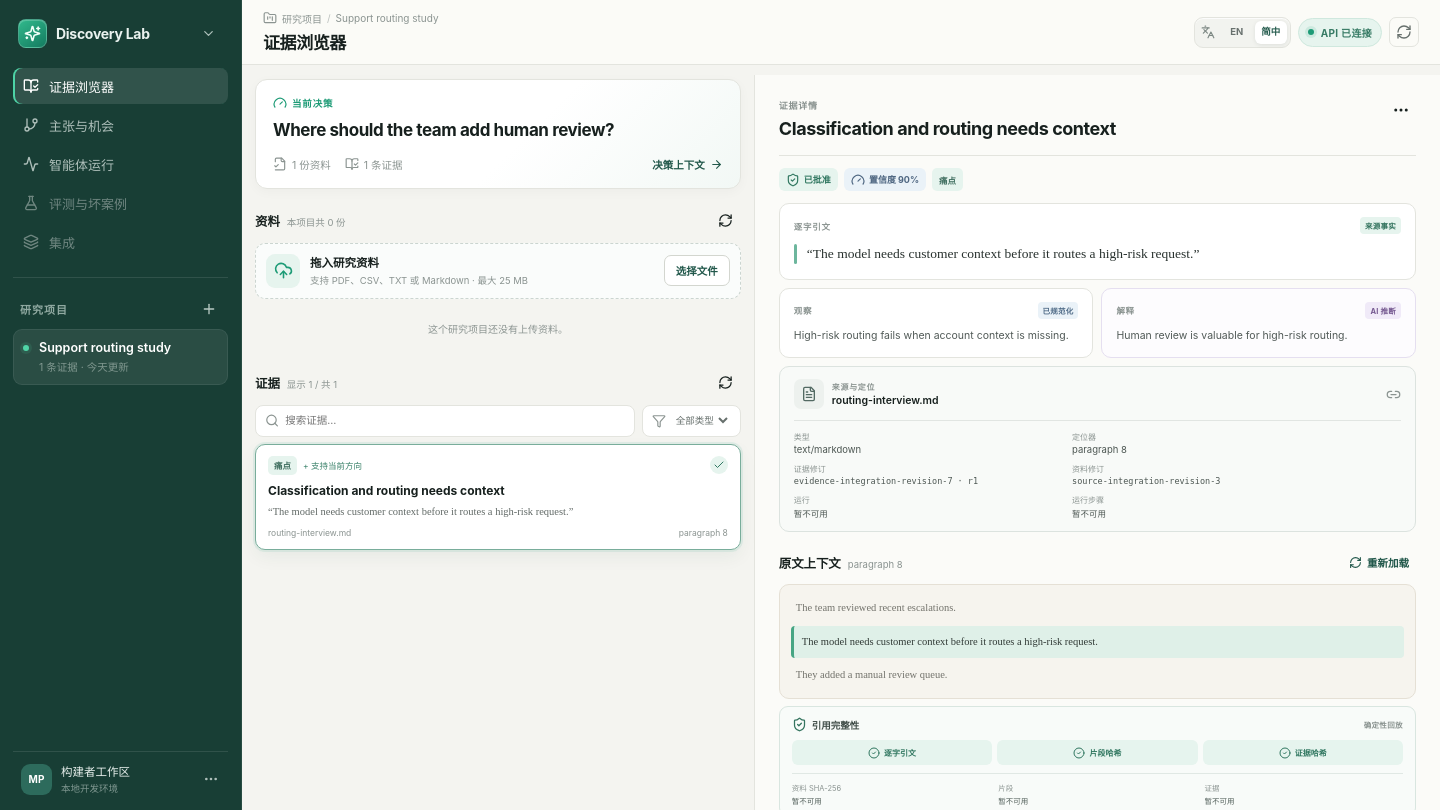
Test case: DiscoveryWorkbench navigation and locale integration › initializes from the saved locale, switches language, and persists the new choice
This screenshot has width=1440, height=810.
Check: the button "主张与机会" is shown, box [13,107,228,143]
Click the button "EN". click: (1237, 32)
box: [1221,20,1253,44]
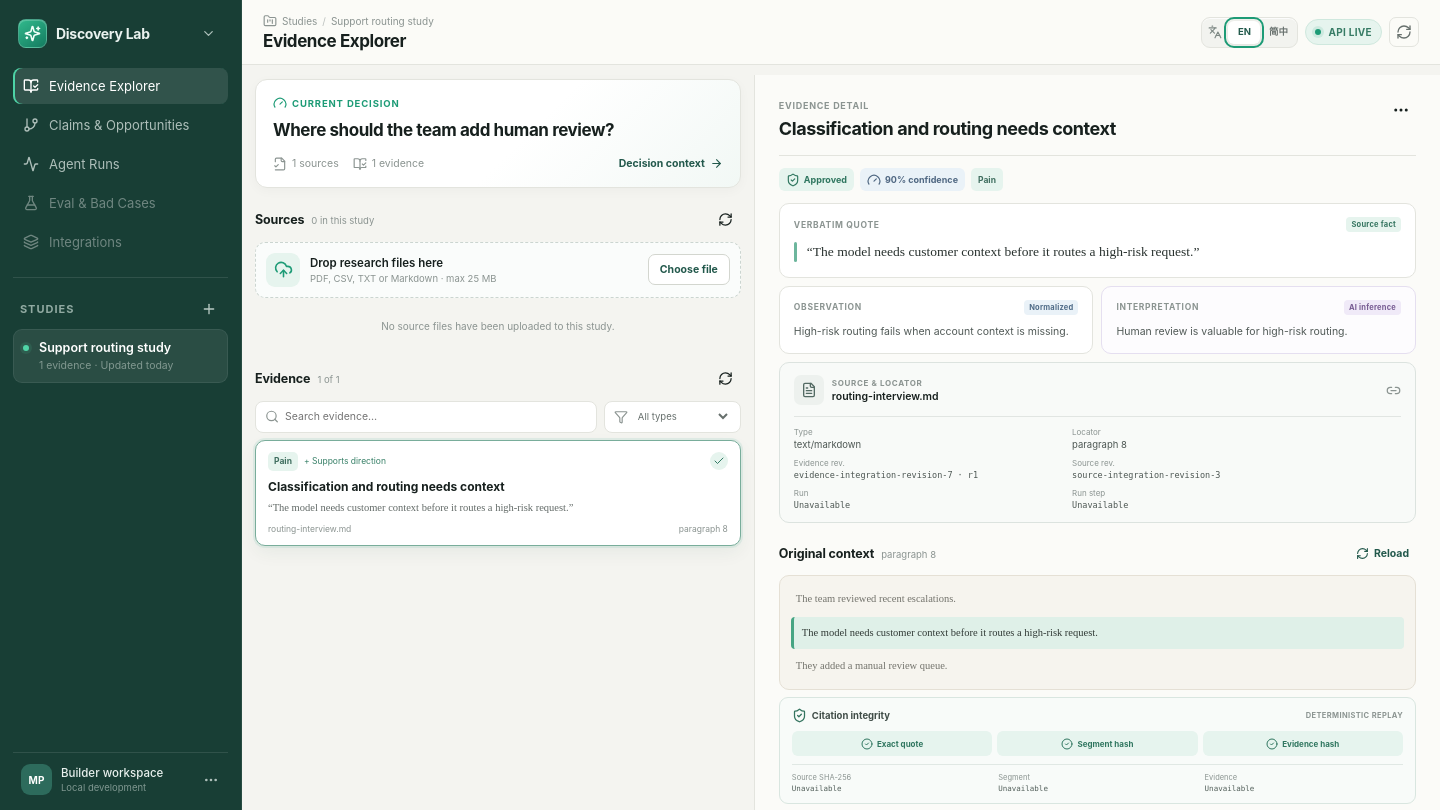
Check: the button "Claims & Opportunities" is shown, box [13,107,228,143]
